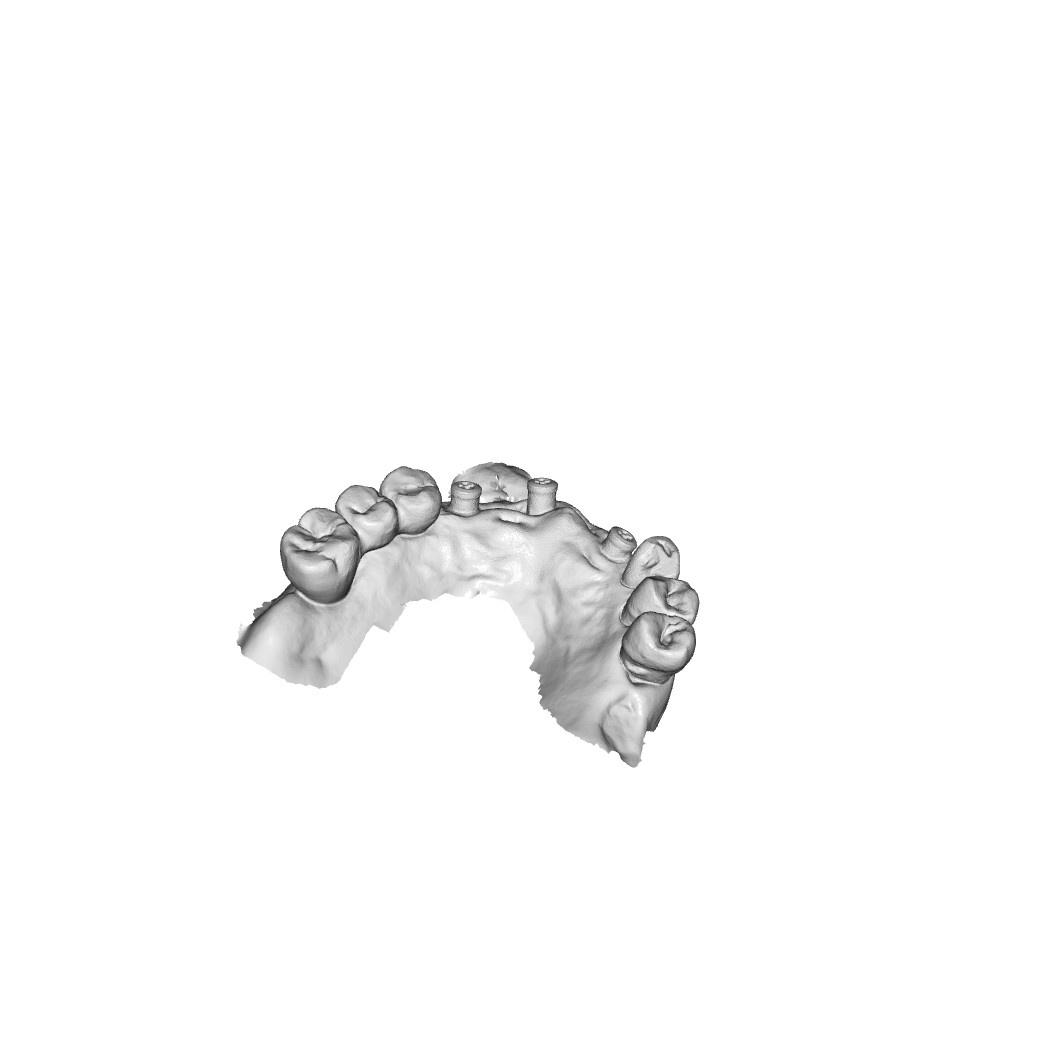canine: (625, 536, 682, 589)
implant_plus: (599, 523, 638, 566), (524, 472, 560, 516), (446, 476, 483, 516)
molar: (278, 506, 360, 603)
premolar: (618, 613, 697, 673), (376, 465, 441, 536), (623, 574, 702, 628), (336, 482, 395, 546)
